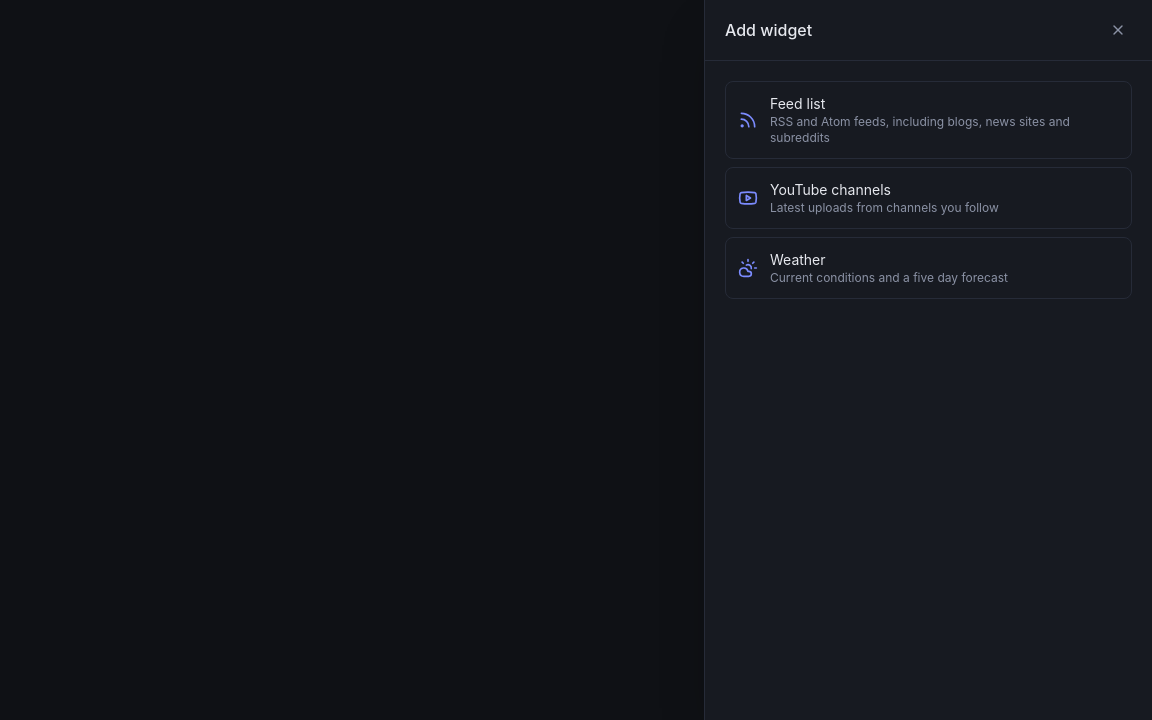
Test: AddWidgetPanel (adding) › shows the form of the chosen type and can go back
Click the button "Weather Current conditions and a five day forecast": (928, 268) [725,237,1132,299]
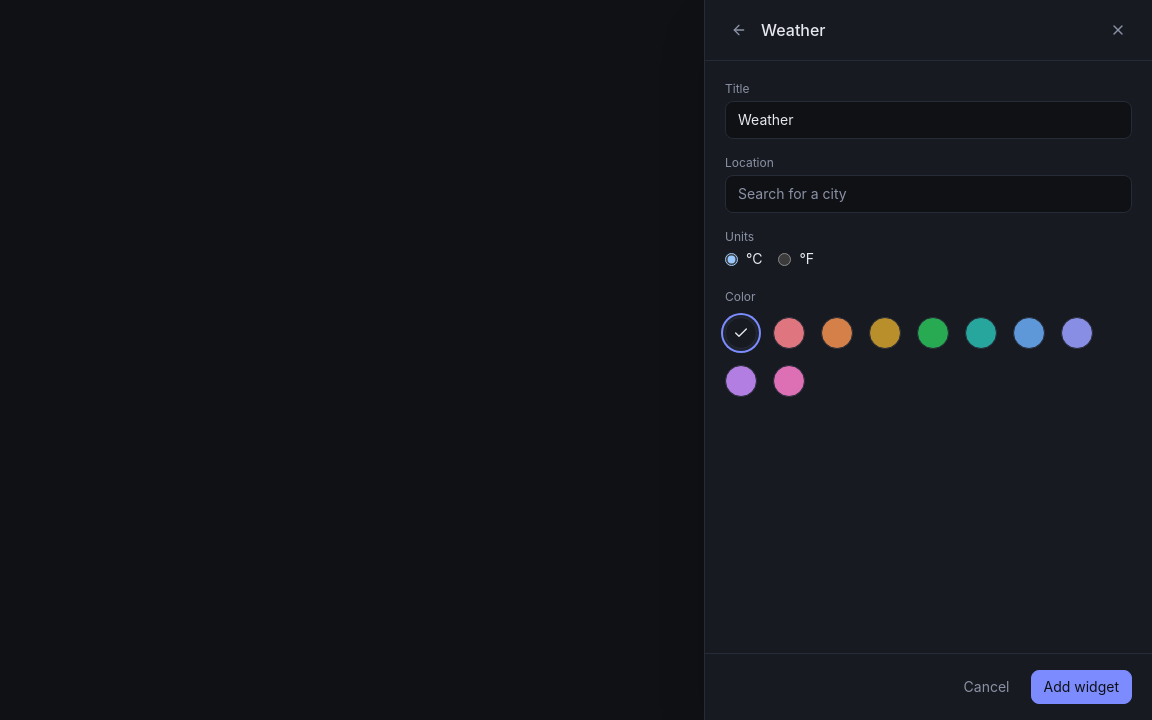
Expected: the heading "Weather" is shown, [761,20,826,40]
Expected: the field with id "weather-search" is shown, [725,175,1132,213]
Click the button named "Back to widget types": (739, 30) [725,16,753,44]
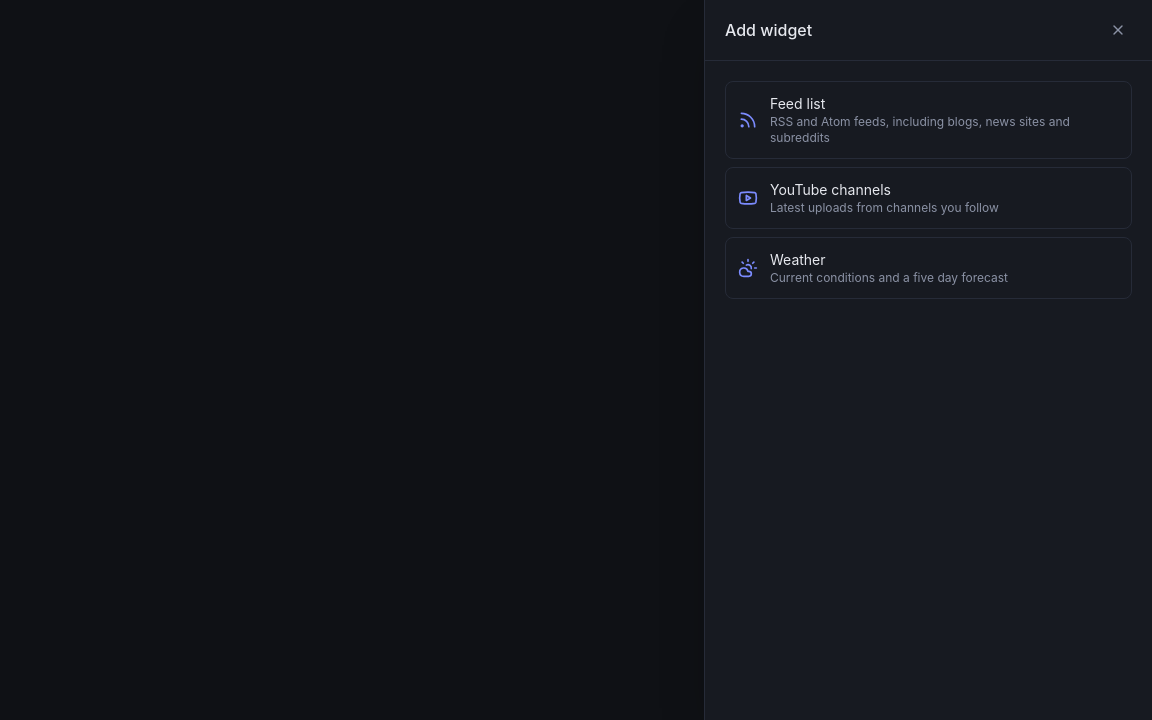
Expected: the heading "Add widget" is shown, [725,20,812,40]
